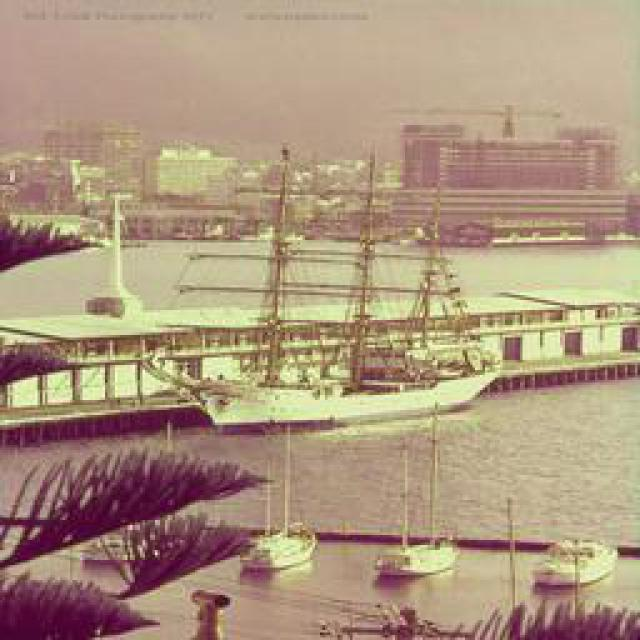Ship: (375, 547, 463, 580)
